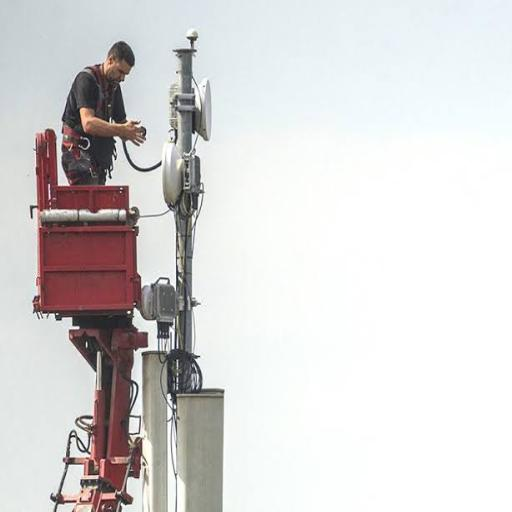odn_pole: (137, 27, 211, 512)
